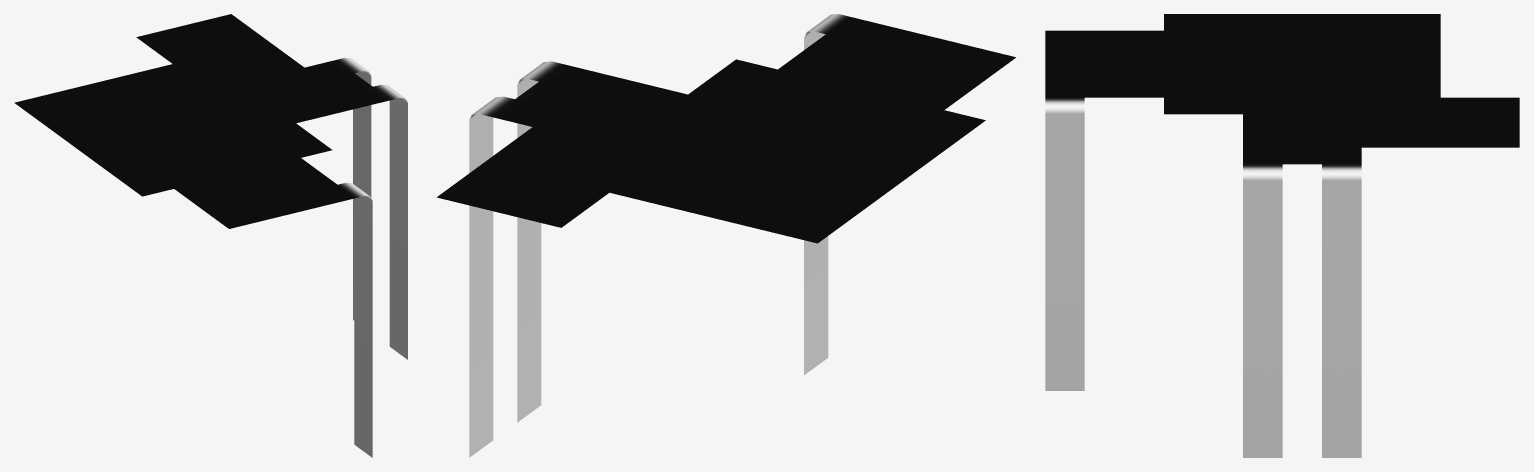
The model's file is PuzzleRoom3Water_MESH.fbx.
The picture shows the model from 3 angles, left to right: view 1: azimuth 30°, elevation 25°; view 2: azimuth 150°, elevation 25°; view 3: azimuth 270°, elevation 25°; orthographic projection. The views are drawn at different scales.
Parts seen in each view (by area): view 1: room14; view 2: room14; view 3: room14.
Boxes of the visible parts, left/top/right/bottom form: room14: left=14, top=14, right=407, bottom=457; room14: left=437, top=14, right=1015, bottom=457; room14: left=1045, top=14, right=1519, bottom=457.
Bounding box in the file's own units: 9.52 × 7.95 × 12.
